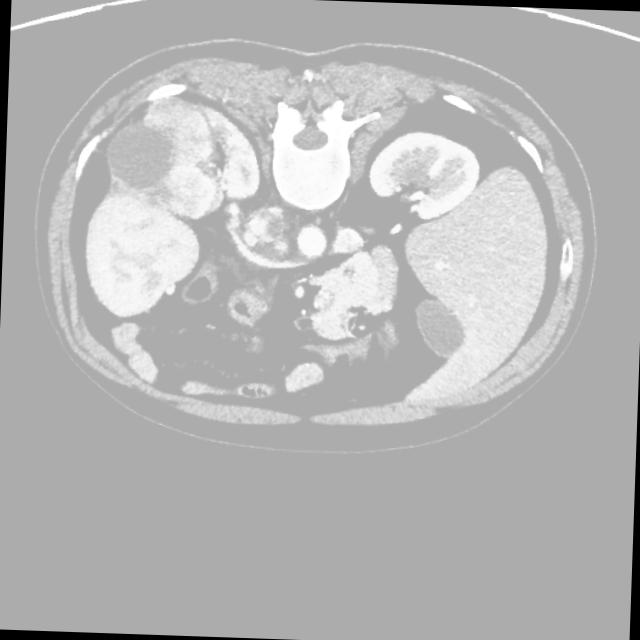TUMOR: (84, 94, 569, 391)
